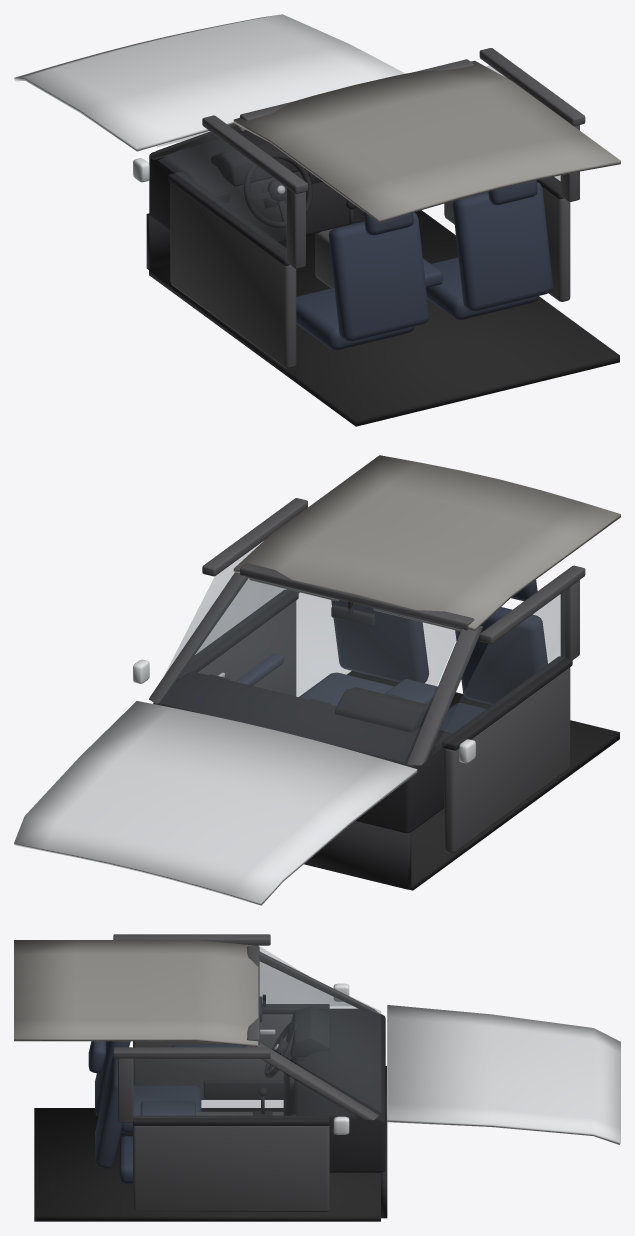
File: PatrolCar_Interior.fbx
3 renders of one model, top to bottom at view 1: azimuth 30°, elevation 25°; view 2: azimuth 150°, elevation 25°; view 3: azimuth 270°, elevation 25°, orthographic. The views are drawn at different scales.
Parts seen in each view (by area): view 1: Headliner, Floor, Hood_Visible, Door_L_Panel, Seat_Driver_Back, Seat_Passenger_Back, Dashboard, SideGlass_L, Door_R_Panel, Seat_Driver_Base, Door_L_Beltline, Seat_Passenger_Base (+11 smaller); view 2: Hood_Visible, Headliner, Windshield, Dashboard, Door_L_Panel, SideGlass_L, Seat_Passenger_Back, Floor, Seat_Driver_Back, Firewall, Door_R_Panel, SideGlass_R (+13 smaller); view 3: Hood_Visible, Headliner, Door_R_Panel, Floor, Windshield, Dashboard, SideGlass_R, Door_L_Panel, Door_R_Beltline, SideGlass_L, Seat_Passenger_Back, Roof_Rail_R (+15 smaller).
Part boxes in pixels (x1,y1,x2,y2): Headliner: (233, 60, 620, 222); Floor: (149, 210, 619, 426); Hood_Visible: (14, 14, 405, 151); Door_L_Panel: (170, 182, 296, 368); Seat_Driver_Back: (328, 212, 429, 341); Seat_Passenger_Back: (452, 182, 552, 311); Dashboard: (149, 130, 364, 242); SideGlass_L: (158, 133, 286, 253); Door_R_Panel: (444, 187, 570, 301); Seat_Driver_Base: (296, 287, 414, 350); Door_L_Beltline: (168, 172, 289, 265); Seat_Passenger_Base: (426, 257, 538, 319); Hood_Visible: (14, 701, 417, 905); Headliner: (233, 455, 620, 630); Windshield: (157, 575, 460, 762); Dashboard: (153, 672, 450, 833); Door_L_Panel: (444, 667, 570, 853); SideGlass_L: (432, 591, 565, 754); Seat_Passenger_Back: (331, 600, 428, 683); Floor: (347, 671, 619, 890); Seat_Driver_Back: (455, 607, 547, 704); Firewall: (304, 821, 411, 889); Door_R_Panel: (197, 601, 296, 696); SideGlass_R: (165, 542, 290, 673); Hood_Visible: (387, 1005, 620, 1144); Headliner: (14, 940, 258, 1046); Door_R_Panel: (133, 1125, 329, 1211); Floor: (34, 1108, 380, 1221); Windshield: (260, 953, 380, 1112); Dashboard: (283, 1008, 385, 1172); SideGlass_R: (134, 1059, 356, 1117); Door_L_Panel: (133, 1014, 292, 1099); Door_R_Beltline: (133, 1115, 329, 1125); SideGlass_L: (259, 946, 351, 1005); Seat_Passenger_Back: (95, 1056, 123, 1168); Roof_Rail_R: (113, 1047, 270, 1058).
Bounding box in the file's own units: 2.06 × 1.28 × 3.85.
